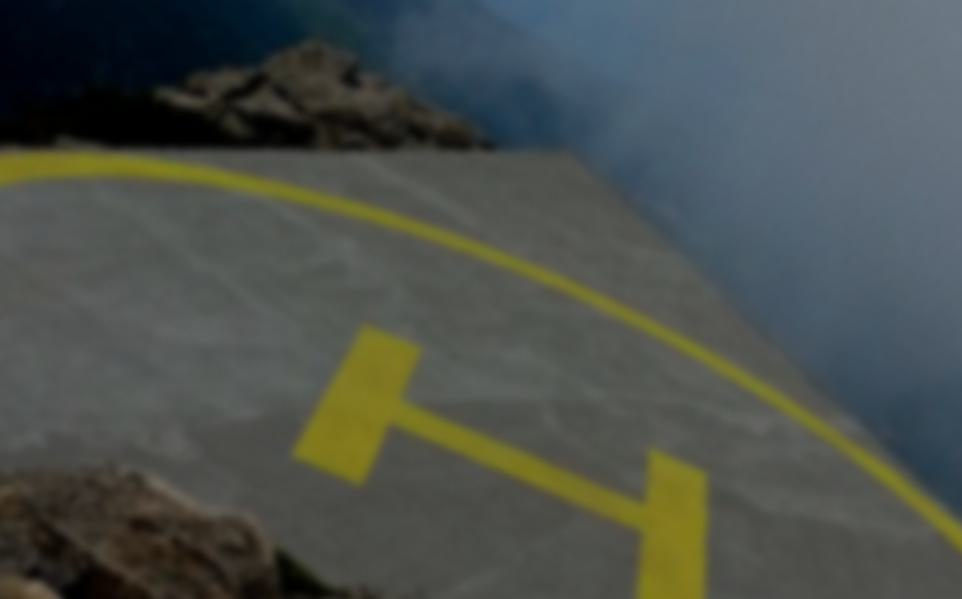Apron: (36, 180, 681, 578)
